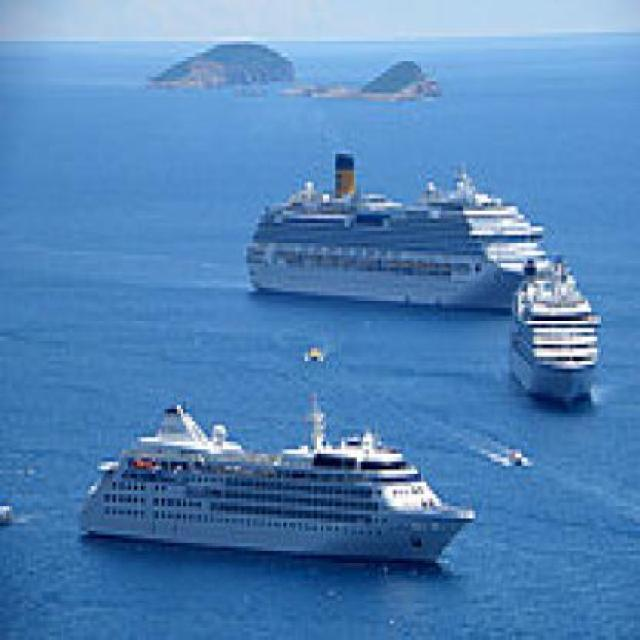cruise: (71, 386, 486, 584), (242, 143, 556, 317), (500, 253, 608, 414)
